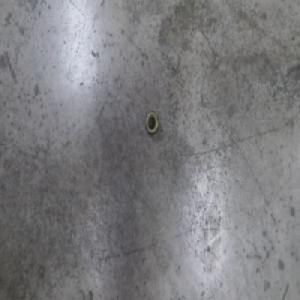Nut: (144, 109, 159, 138)
